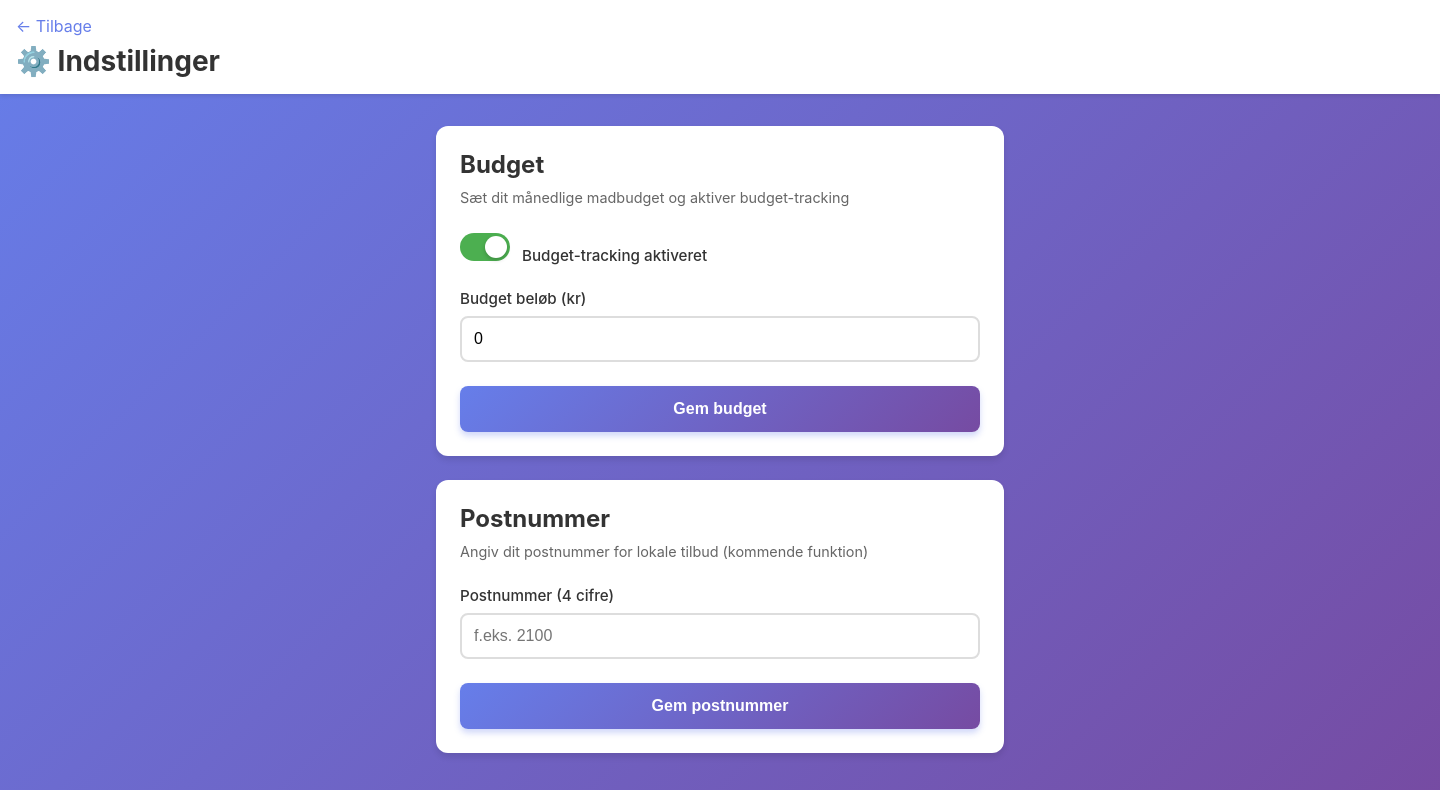
Test: Indstillinger Page › Postnummer Settings › handles storage errors gracefully
Type "2100" into the field labelled "Postnummer (4 cifre)" at coordinates (720, 636), box x1=460 y1=613 x2=980 y2=659
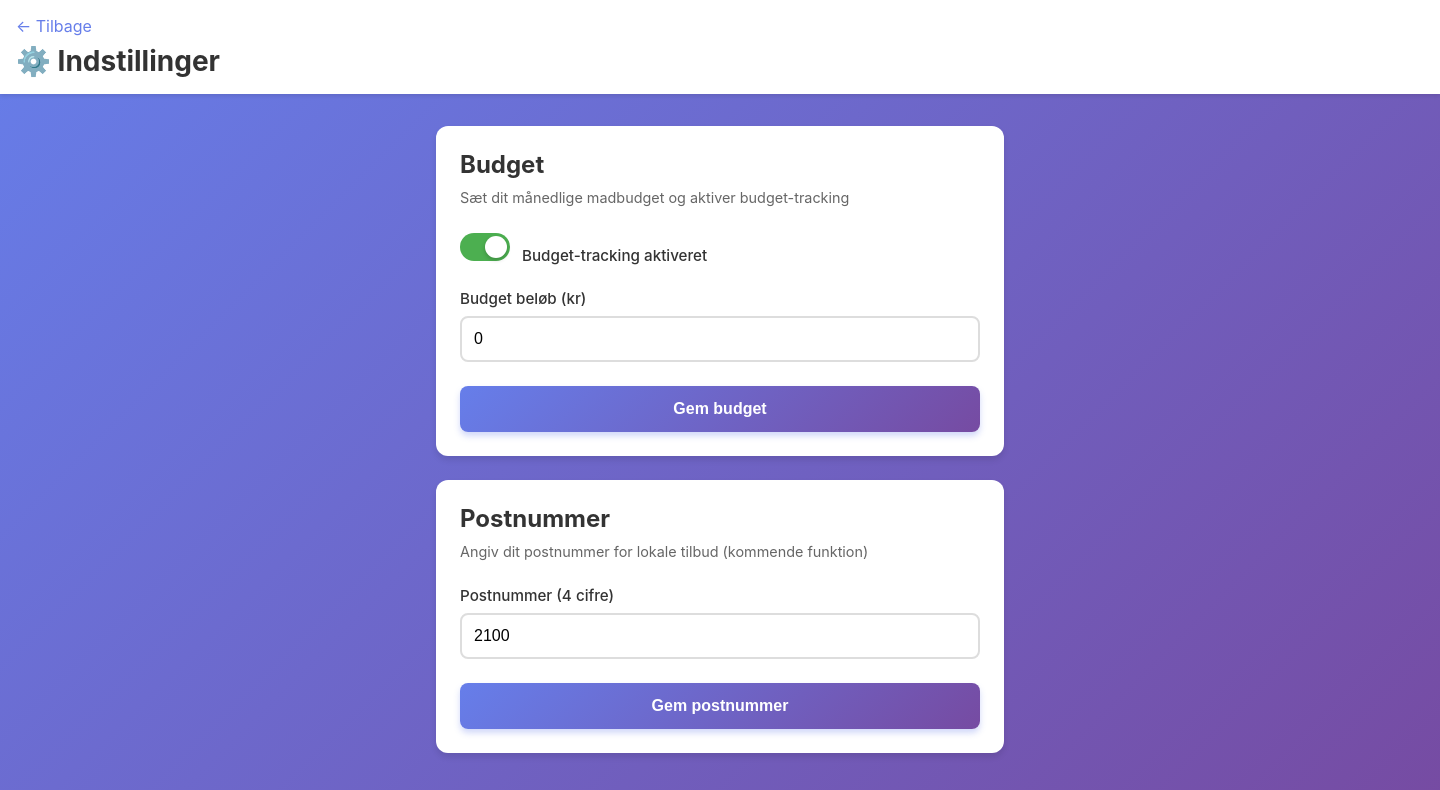
Click the button "Gem postnummer" at coordinates (720, 706), box x1=460 y1=683 x2=980 y2=729
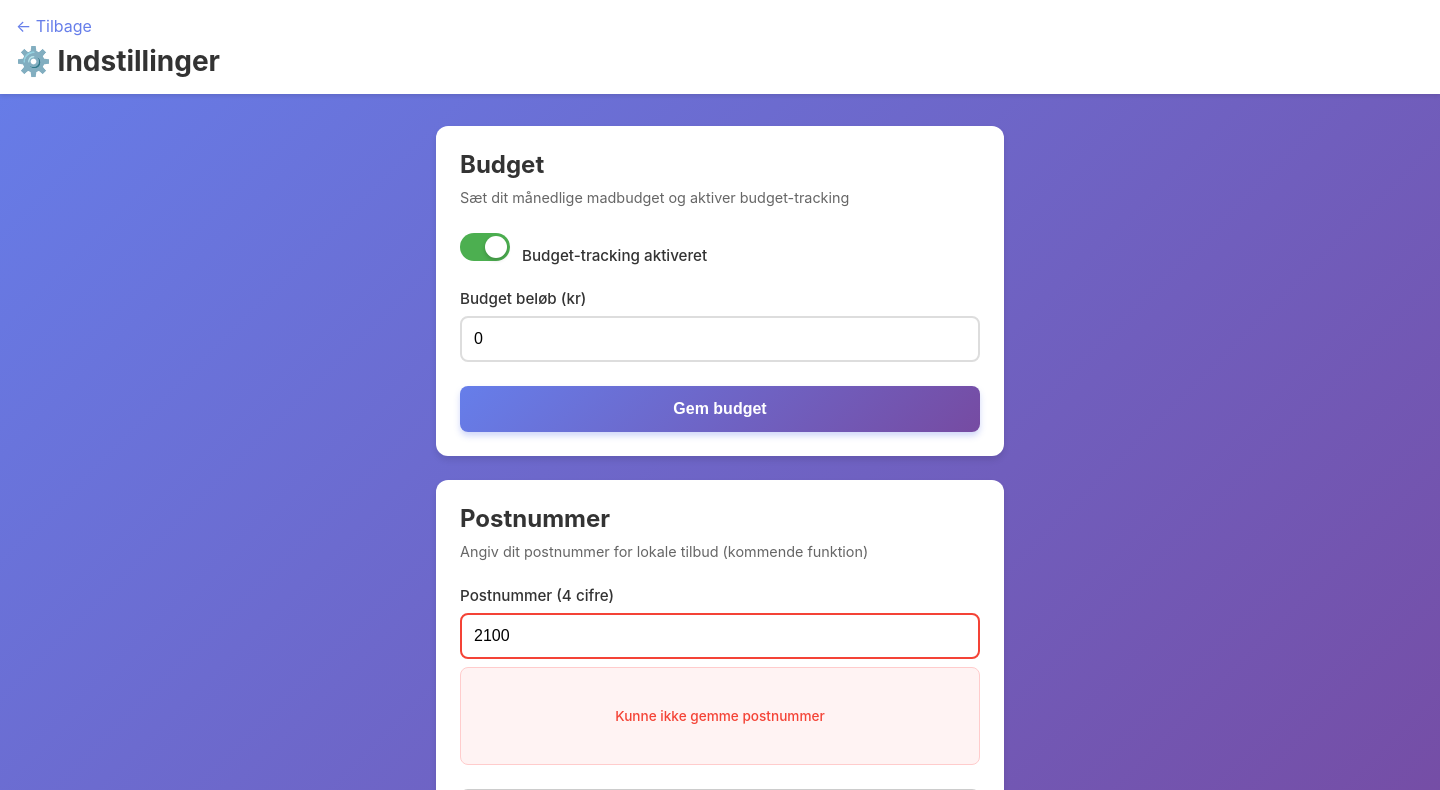
Expected: the text "Kunne ikke gemme postnummer" is shown, x1=460 y1=667 x2=980 y2=765
